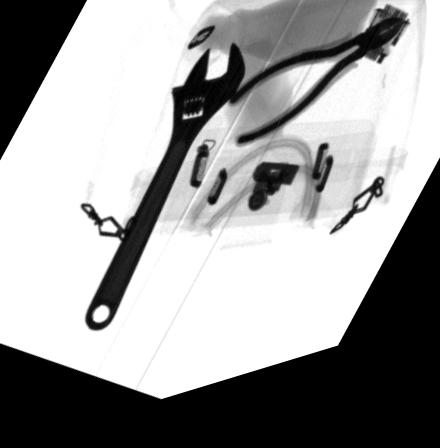Pliers: (225, 39, 403, 158)
Wrench: (82, 54, 245, 337)
